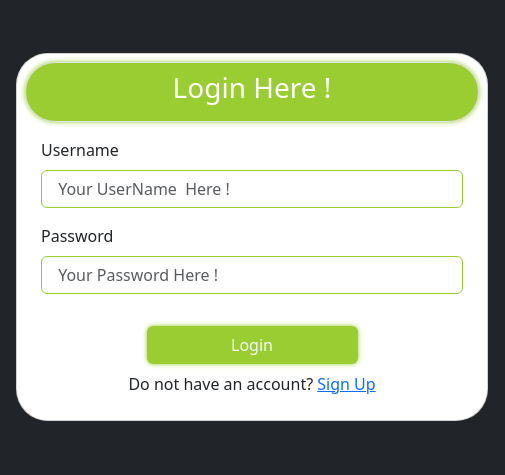
Test: Login() Login method › Edge Cases › should display error message on failed login
Type "wronguser" into the field labelled "Username".
click(252, 189); type("wronguser")  # box [41,170,463,208]
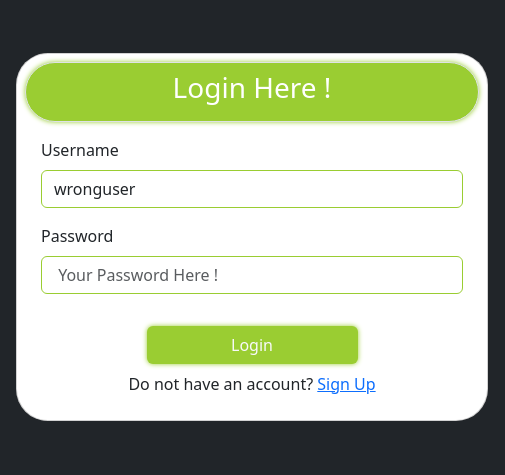
Type "wrongpassword" into the password field labelled "Password".
click(252, 275); type("wrongpassword")  # box [41,256,463,294]
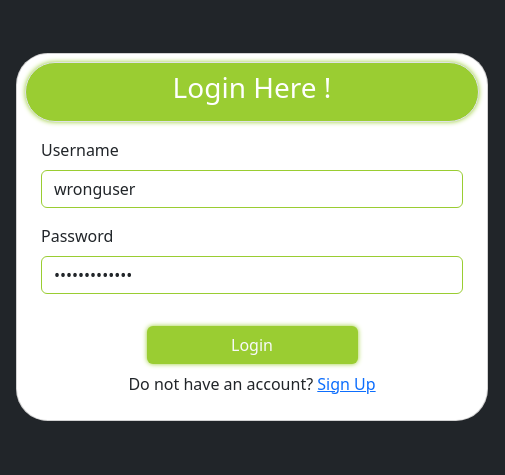
Click the button "Login".
click(252, 345)  # box [146,326,358,364]
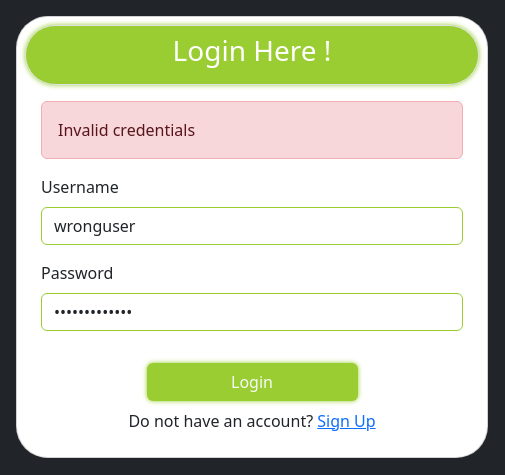
Check: the text "Invalid credentials" is shown, box [41,101,463,159]
